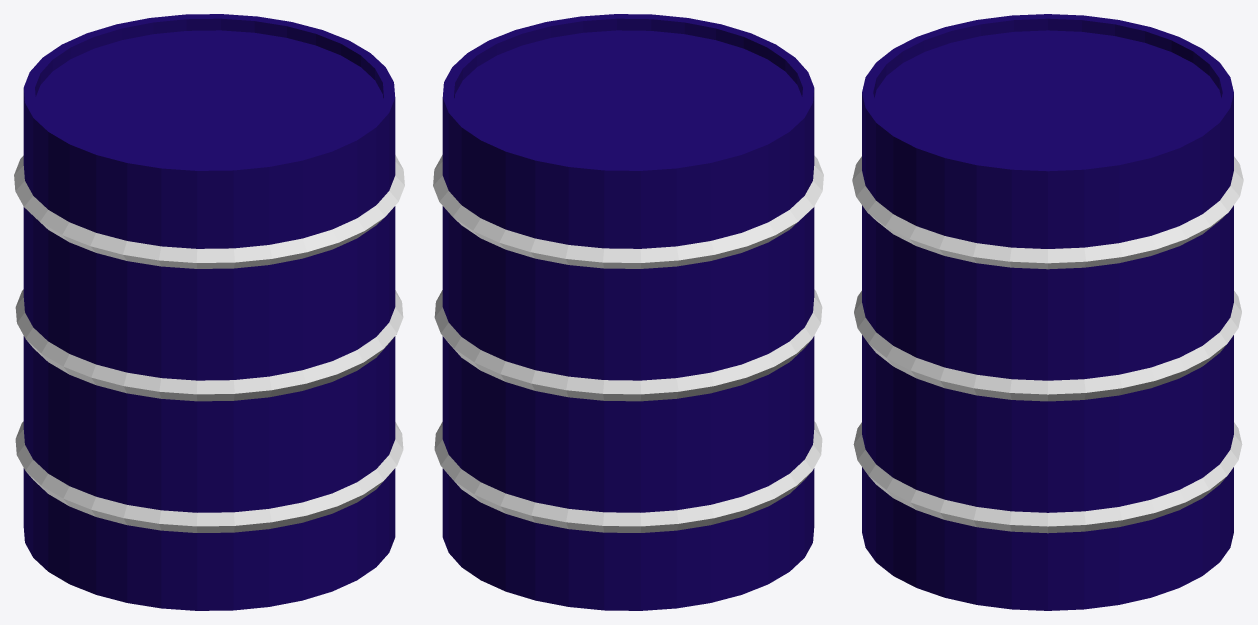
File: barrel1.fbx
3 views of the same model, side by side, from view 1: azimuth 30°, elevation 25°; view 2: azimuth 150°, elevation 25°; view 3: azimuth 270°, elevation 25° (orthographic).
Parts seen in each view (by area): view 1: Cylinder; view 2: Cylinder; view 3: Cylinder.
Part boxes in pixels (<box>): Cylinder: <box>14,14,404,610</box>; Cylinder: <box>433,14,823,610</box>; Cylinder: <box>852,14,1243,610</box>.
Bounding box in the file's own units: 160 × 199 × 160.
